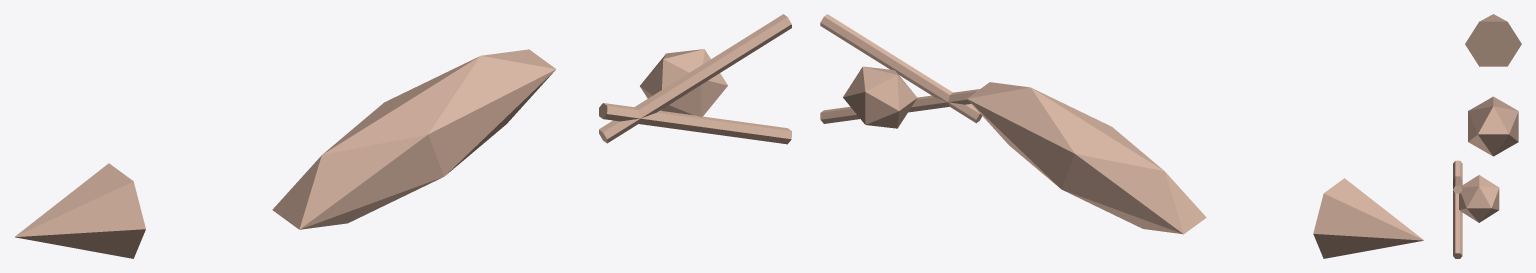
The model's file is shrimp.glb.
3 views of the same model, side by side, from view 1: azimuth 30°, elevation 25°; view 2: azimuth 150°, elevation 25°; view 3: azimuth 270°, elevation 25° (orthographic). The views are drawn at different scales.
Parts seen in each view (by area): view 1: world; view 2: world; view 3: world.
Boxes of the visible parts, x1,y1,x2,y2 form: world: (14, 14, 791, 258); world: (820, 14, 1423, 258); world: (1453, 14, 1521, 258).
Bounding box in the file's own units: 2.08 × 0.3617 × 0.29.
